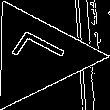L_SE: (3, 29, 72, 82)
